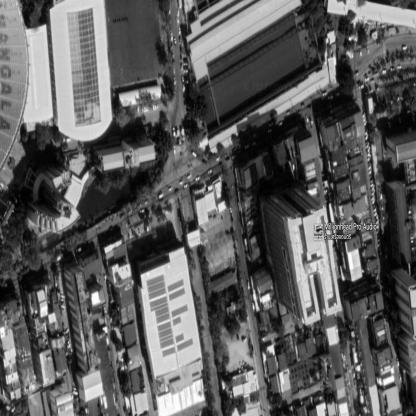solar-pv-panel: (146, 274, 193, 358)
